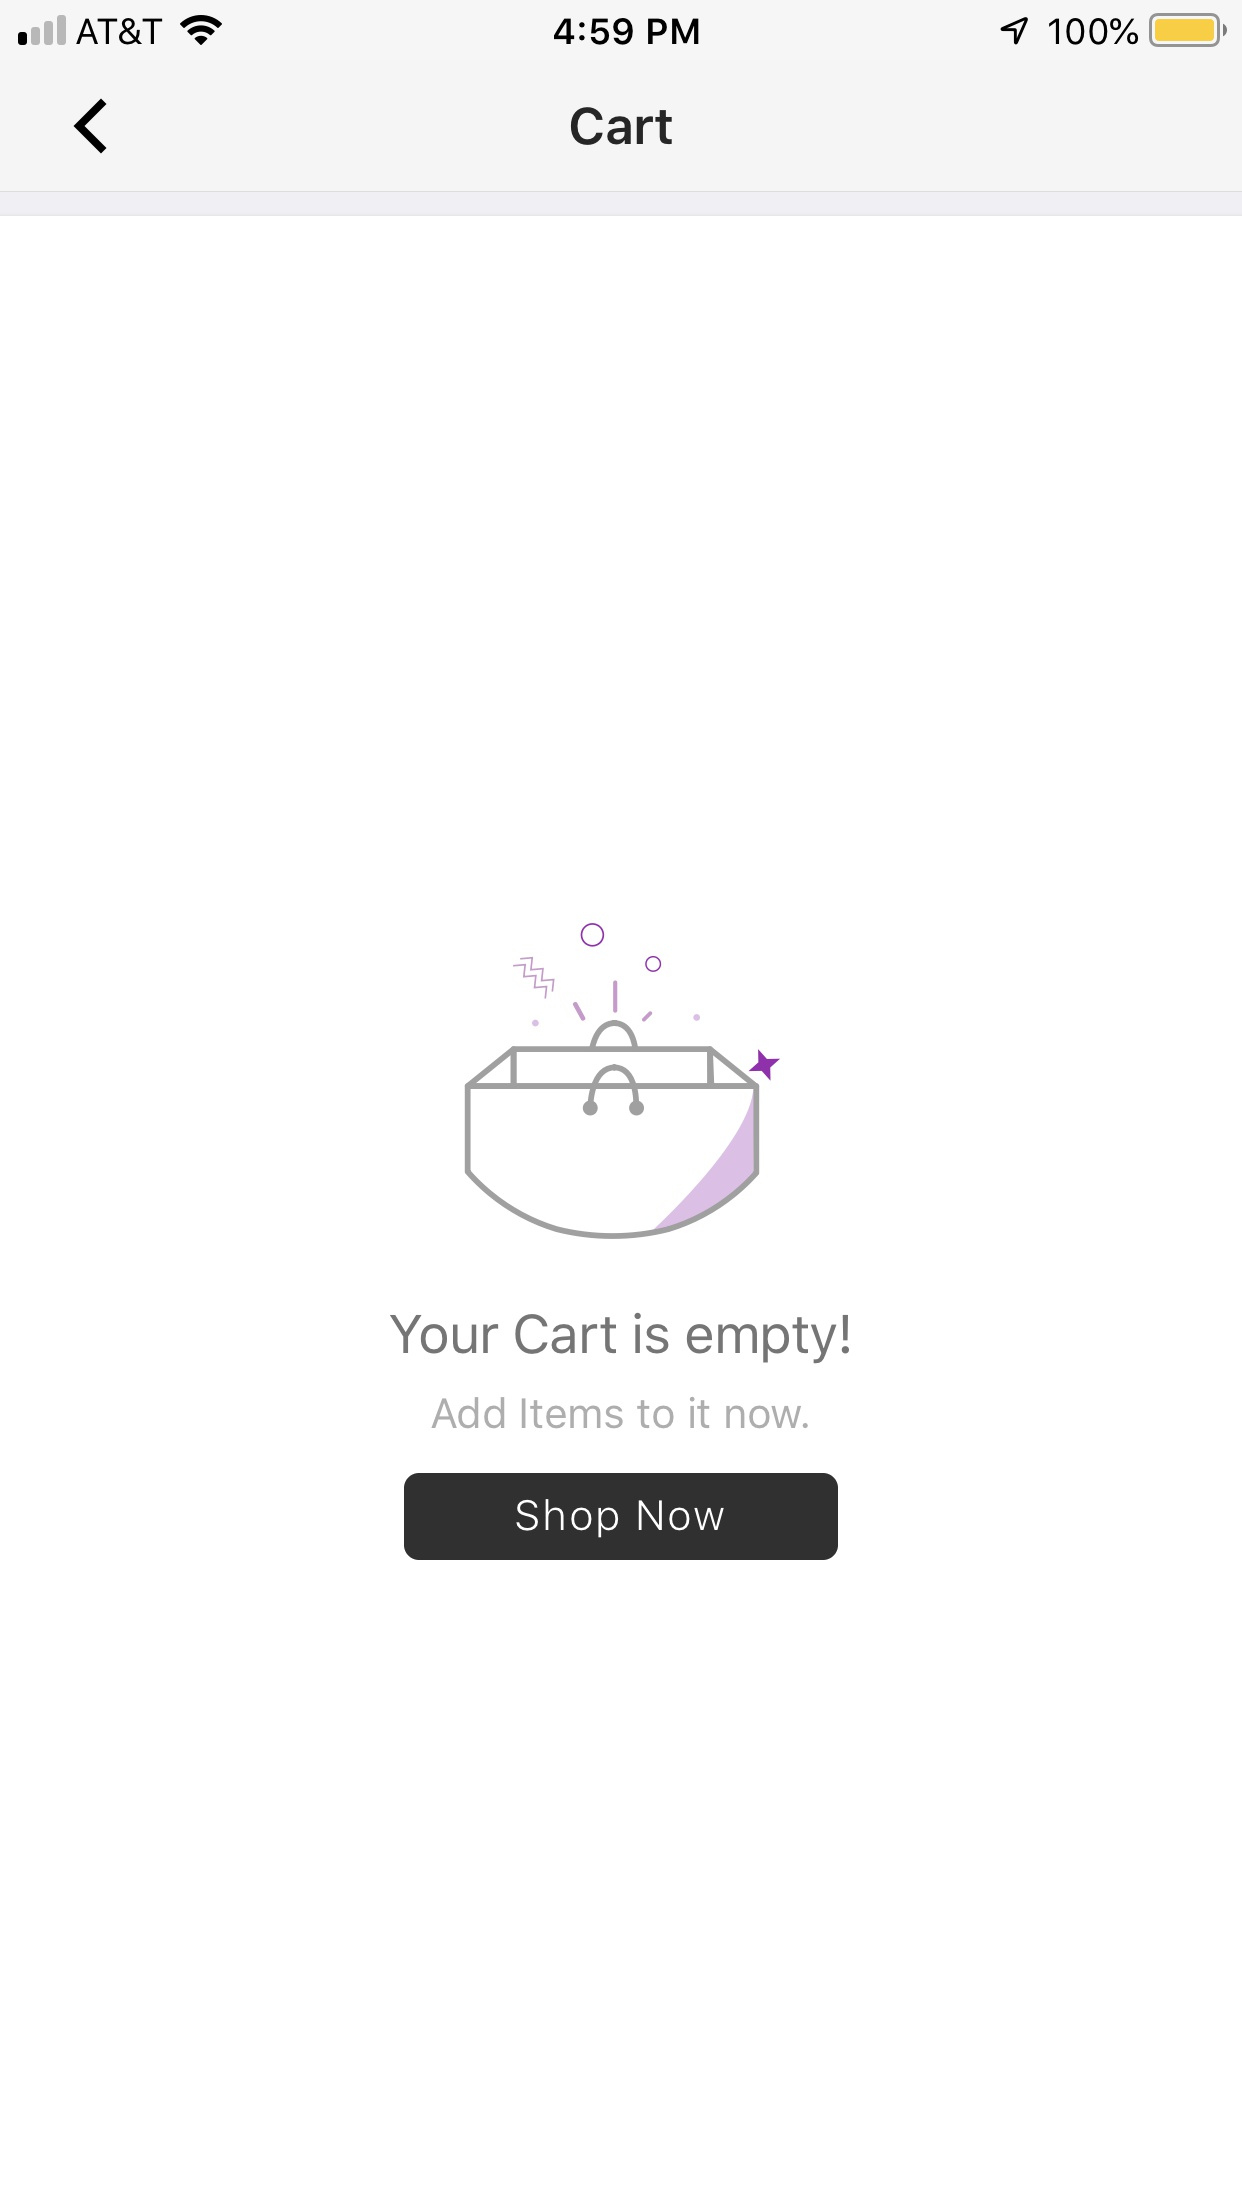Icon: (74, 99, 108, 155)
Image: (464, 924, 781, 1240)
Text: (390, 1313, 851, 1365), (431, 1397, 808, 1430), (570, 108, 673, 147)
TextButton: (403, 1473, 839, 1560)
UpperTaskBar: (2, 2, 1242, 49)
